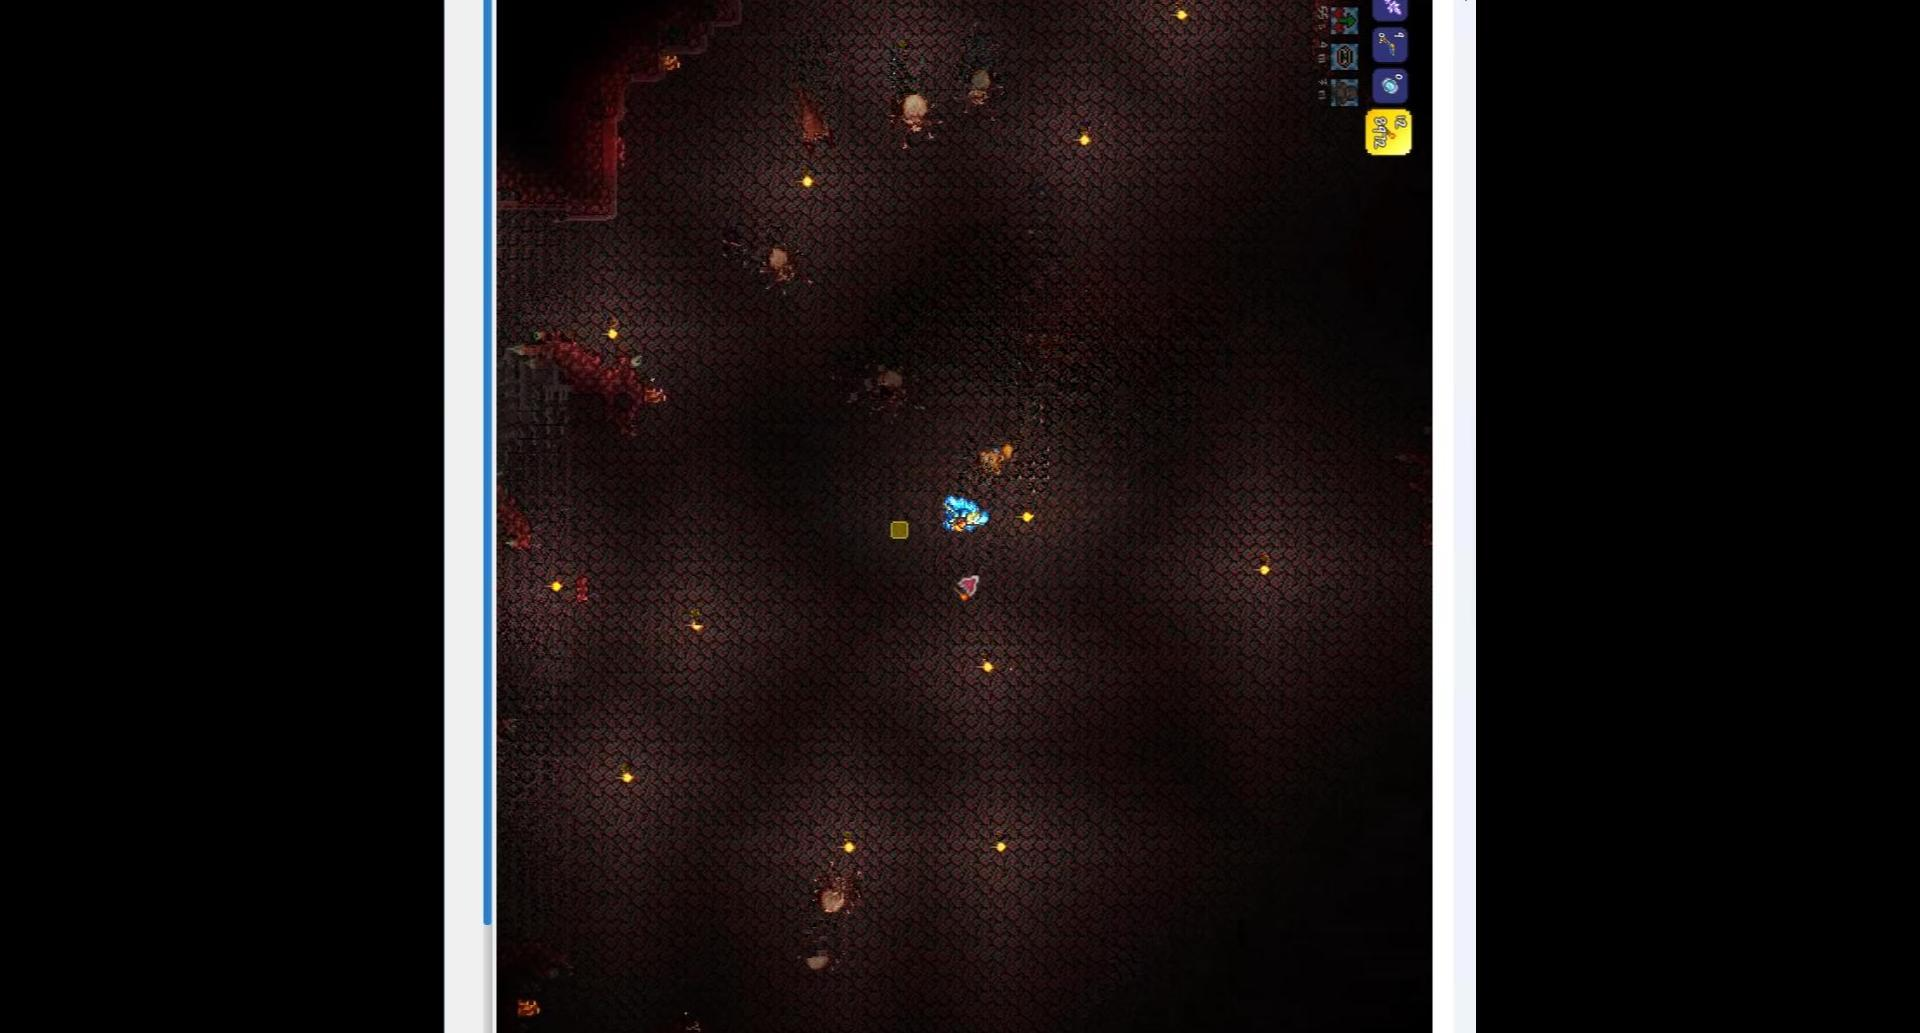spider: (882, 66, 943, 150), (809, 857, 876, 916)
